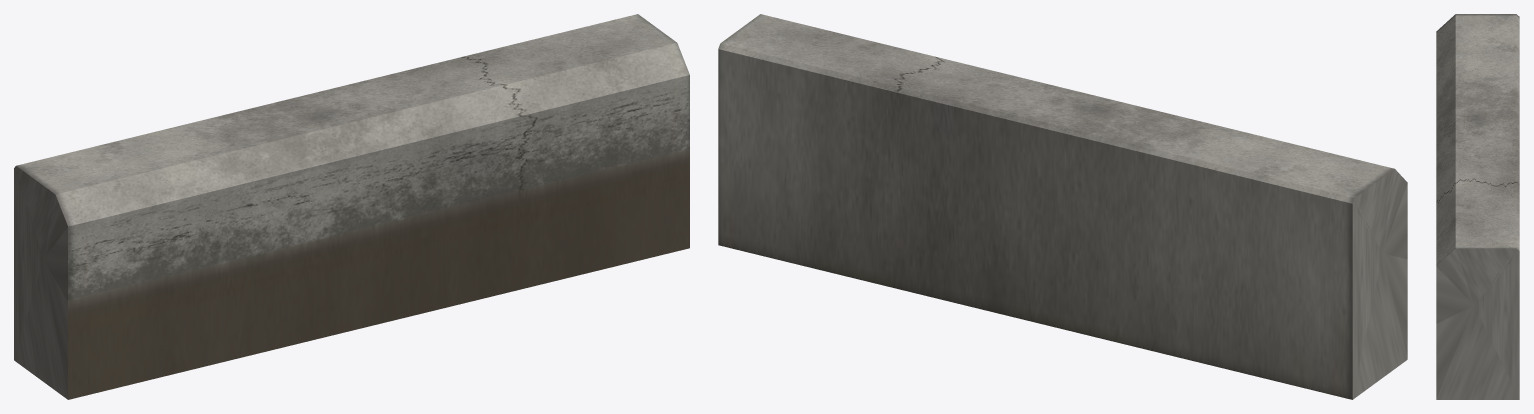
File: curb_straight_bare_b_lod1_web.glb
The picture shows the model from 3 angles, left to right: view 1: azimuth 30°, elevation 25°; view 2: azimuth 150°, elevation 25°; view 3: azimuth 270°, elevation 25°; orthographic projection. The views are drawn at different scales.
Parts seen in each view (by area): view 1: curb_straight_bare_b_Mesh; view 2: curb_straight_bare_b_Mesh; view 3: curb_straight_bare_b_Mesh.
Part boxes in pixels (bbox=[...]): curb_straight_bare_b_Mesh: bbox=[14, 14, 689, 399]; curb_straight_bare_b_Mesh: bbox=[718, 14, 1407, 399]; curb_straight_bare_b_Mesh: bbox=[1436, 14, 1519, 399].
Size of the model in its own units: 0.995 by 0.3 by 0.15.
1 material, 1 textured.
